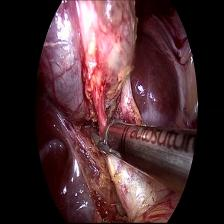Clipper: (88, 117, 132, 157)
